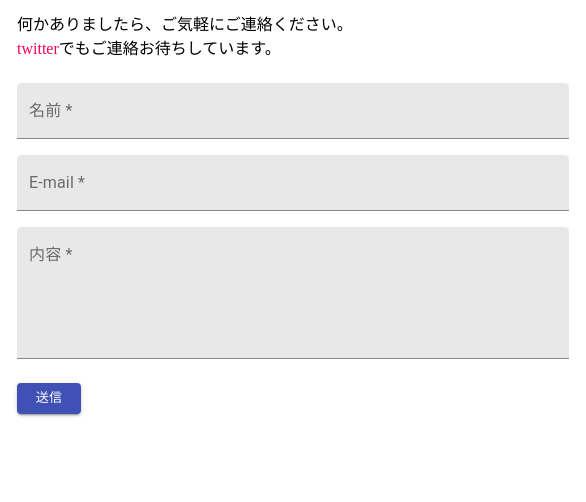
it: Contact › validation:「名前」項目の最大文字数のエラー
Type "123456789X123456789X1" into the field labelled "名前 *" at (293, 111), box [17,83,569,139]
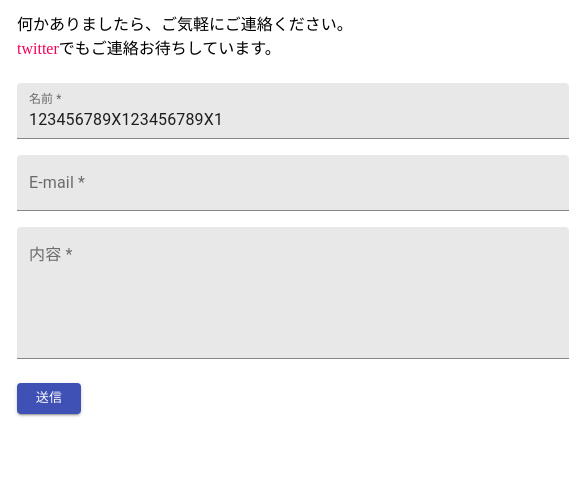
Submit the form from the button, box [17,383,81,414]
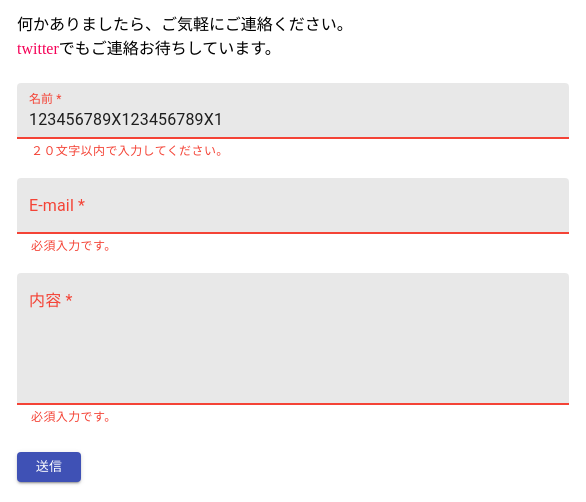
Expected: the text "２０文字以内で入力してください。" is shown once, [31,144,229,158]
